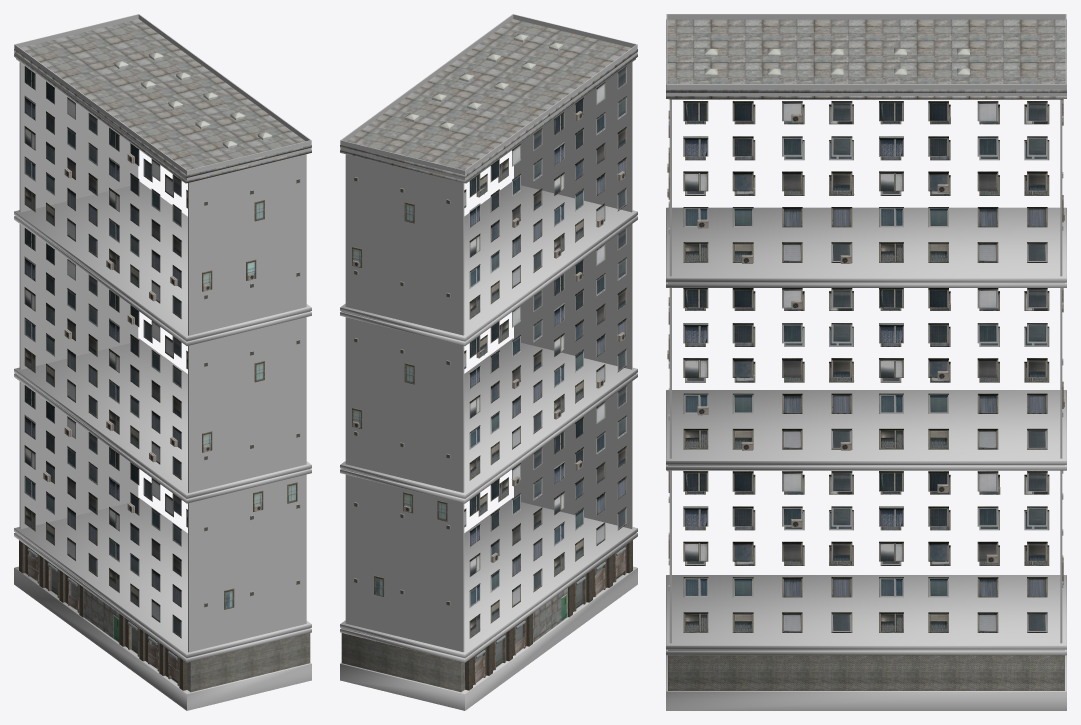
The model's file is u2NWBuild12.gltf.
The picture shows the model from 3 angles, left to right: view 1: azimuth 30°, elevation 25°; view 2: azimuth 150°, elevation 25°; view 3: azimuth 270°, elevation 25°; orthographic projection. The views are drawn at different scales.
Parts seen in each view (by area): view 1: u2NWBuild12; view 2: u2NWBuild12; view 3: u2NWBuild12.
Part boxes in pixels (bbox=[...]): u2NWBuild12: bbox=[14, 14, 311, 710]; u2NWBuild12: bbox=[340, 14, 637, 710]; u2NWBuild12: bbox=[666, 14, 1066, 710].
Size of the model in its own units: 4.93 by 20.38 by 11.81.
